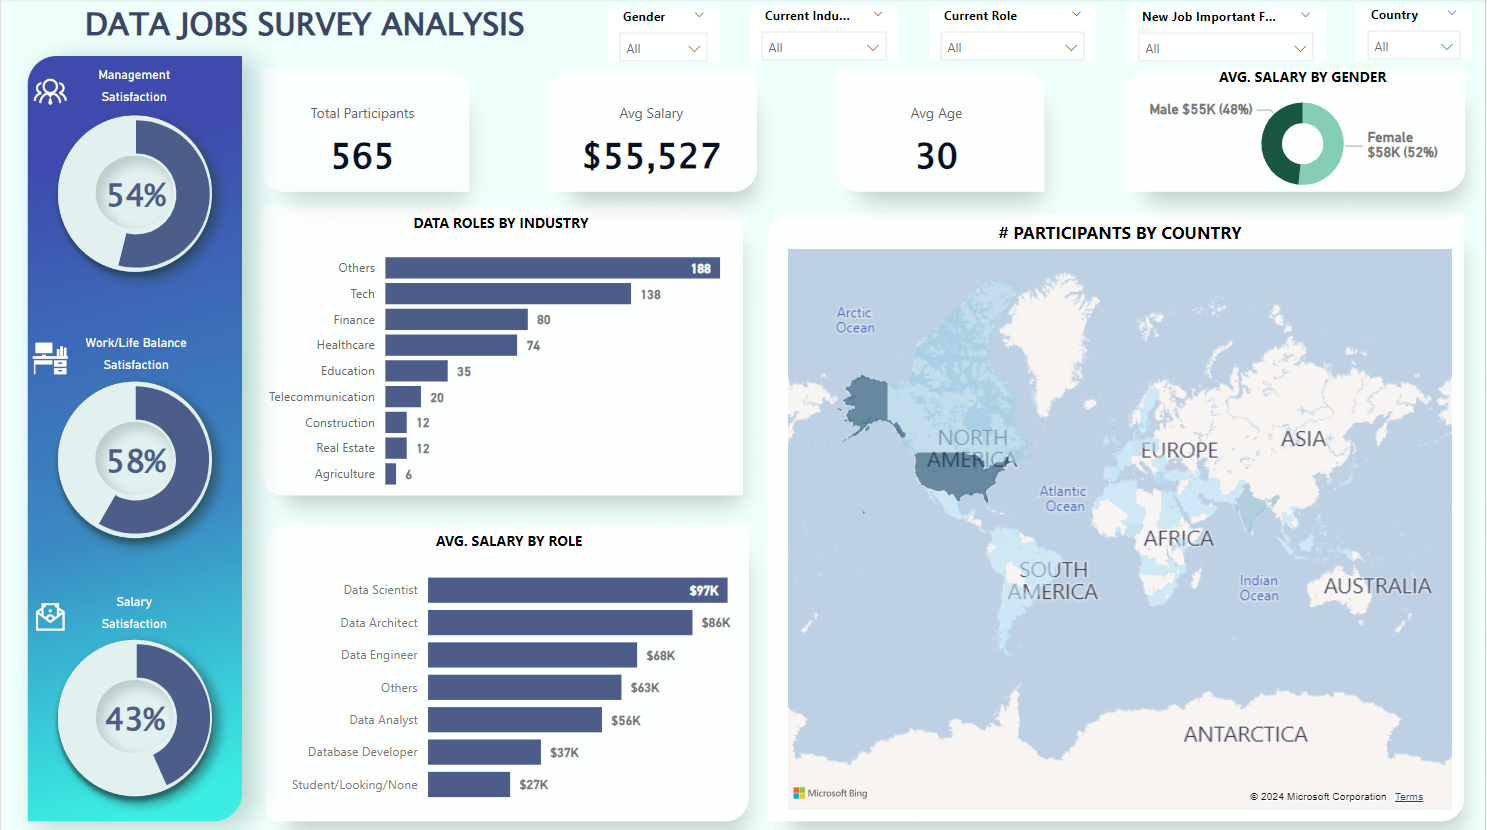

This screenshot's page, from the dashboard's own definition file:
{"tool":"powerbi","page":{"name":"Page 1","canvas":[1280,720],"ordinal":0},"visuals":[{"type":"card","fields":{"Values":["Count(Data Profeessionals Survey.Unique ID)"]},"box":[0,60.9,219.5,151.2],"z":0},{"type":"textbox","box":[0,0,1280,61.3],"z":1000},{"type":"card","fields":{"Values":["Data Profeessionals Survey.Measure"]},"box":[219.5,60.9,218.4,152.3],"z":2000},{"type":"barChart","title":"Average Salary by Current Role","fields":{"Category":["Data Profeessionals Survey.Q1 - Which Title Best Fits your Current Role?"],"Y":["Avg(Data Profeessionals Survey.Average Salary)"],"Series":["Data Profeessionals Survey.Q1 - Which Title Best Fits your Current Role?"]},"box":[0,212.1,437.9,507.2],"z":3000},{"type":"columnChart","title":"Favorite Programming Language by Users & Job Title","fields":{"Category":["Data Profeessionals Survey.Q5 - Favorite Programming Language"],"Y":["CountNonNull(Data Profeessionals Survey.Q5 - Favorite Programming Language)"],"Series":["Data Profeessionals Survey.Q1 - Which Title Best Fits your Current Role?"]},"box":[437.9,341.3,545,379.1],"z":4000},{"type":"gauge","title":"Happiness with Salary","fields":{"Y":["Avg(Data Profeessionals Survey.Q6 - How Happy are you in your Current Position with the following? (Salary))"],"MinValue":["Min(Data Profeessionals Survey.Q6 - How Happy are you in your Current Position with the following? (Salary))1"],"MaxValue":["Max(Data Profeessionals Survey.Q6 - How Happy are you in your Current Position with the following? (Salary))2"]},"box":[991.2,560.7,288.8,158.6],"z":5000},{"type":"gauge","title":"Happiness with Work/Life Balance","fields":{"Y":["Avg(Data Profeessionals Survey.Q6 - How Happy are you in your Current Position with the following? (Work/Life Balance))"],"MinValue":["Min(Data Profeessionals Survey.Q6 - How Happy are you in your Current Position with the following? (Work/Life Balance))"],"MaxValue":["Max(Data Profeessionals Survey.Q6 - How Happy are you in your Current Position with the following? (Work/Life Balance))1"]},"box":[987,399,288.8,161.7],"z":6000},{"type":"gauge","title":"Happiness with Management","fields":{"Y":["Avg(Data Profeessionals Survey.Q6 - How Happy are you in your Current Position with the following? (Management))"],"MinValue":["Min(Data Profeessionals Survey.Q6 - How Happy are you in your Current Position with the following? (Management))"],"MaxValue":["Max(Data Profeessionals Survey.Q6 - How Happy are you in your Current Position with the following? (Management))"]},"box":[982.8,240.5,288.8,158.6],"z":7000},{"type":"donutChart","fields":{"Category":["Data Profeessionals Survey.Q9 - Male/Female?"],"Y":["Avg(Data Profeessionals Survey.Average Salary)"]},"box":[982.8,60.9,297.2,179.6],"z":8000},{"type":"filledMap","fields":{"Category":["Data Profeessionals Survey.Q11 - Which Country do you live in?"]},"box":[437.9,61.3,544.6,279.7],"z":9000}]}

Visuals, with their boxes in screenshot pixels (x1, y1, x2, y2), scaled from the page's 1280x720 canvas onto the 1487x830 screenshot:
card - Count(Data Profeessionals Survey.Unique ID): pyautogui.locateOnScreen(0, 70, 255, 245)
textbox: pyautogui.locateOnScreen(0, 0, 1486, 71)
card - Data Profeessionals Survey.Measure: pyautogui.locateOnScreen(255, 70, 509, 246)
"Average Salary by Current Role" barChart: pyautogui.locateOnScreen(0, 245, 509, 829)
"Favorite Programming Language by Users & Job Title" columnChart: pyautogui.locateOnScreen(509, 393, 1142, 829)
"Happiness with Salary" gauge: pyautogui.locateOnScreen(1151, 646, 1486, 829)
"Happiness with Work/Life Balance" gauge: pyautogui.locateOnScreen(1147, 460, 1482, 646)
"Happiness with Management" gauge: pyautogui.locateOnScreen(1142, 277, 1477, 460)
donutChart - Data Profeessionals Survey.Q9 - Male/Female? x Avg(Data Profeessionals Survey.Average Salary): pyautogui.locateOnScreen(1142, 70, 1486, 277)
filledMap - Data Profeessionals Survey.Q11 - Which Country do you live in?: pyautogui.locateOnScreen(509, 71, 1141, 393)
